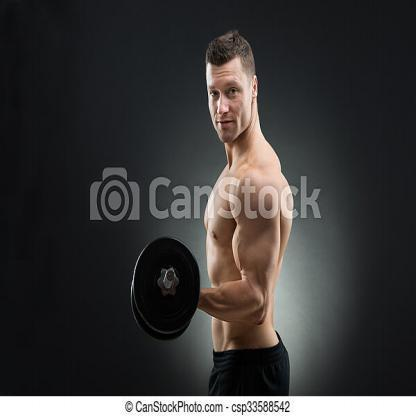barbell: (130, 236, 202, 343)
